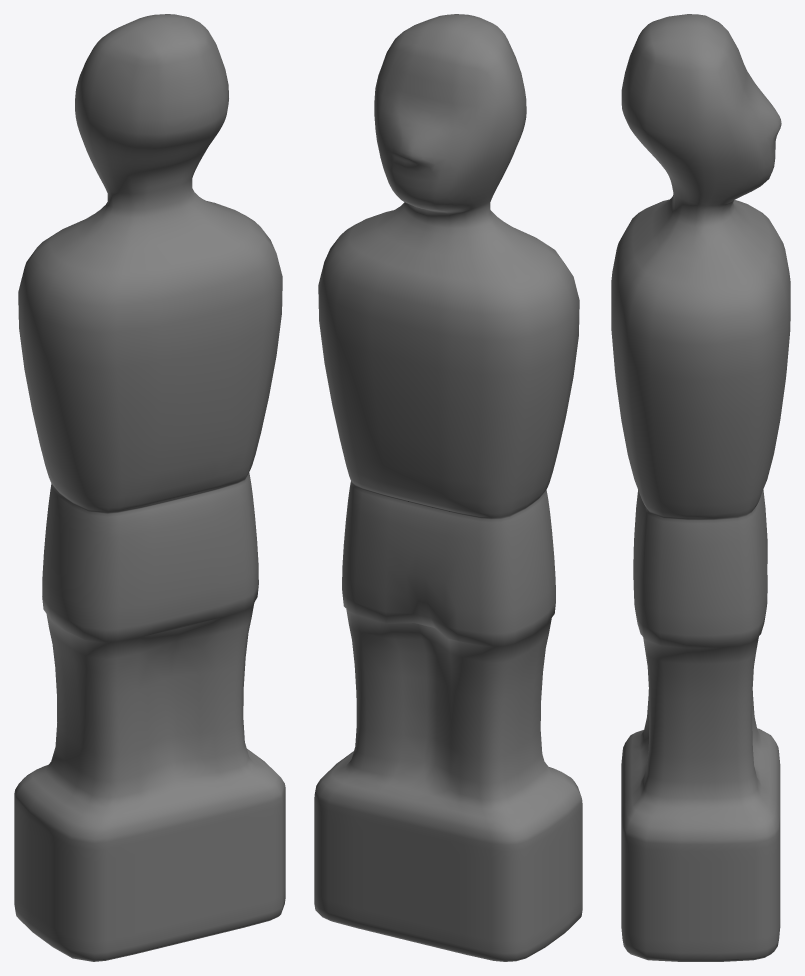
The model's file is Joueur.dae.
3 renders of one model, left to right at view 1: azimuth 30°, elevation 25°; view 2: azimuth 150°, elevation 25°; view 3: azimuth 270°, elevation 25°, orthographic.
Visible parts, largest first — view 1: JoueurEquipe1; view 2: JoueurEquipe1; view 3: JoueurEquipe1.
Part boxes in pixels (bbox=[...]): JoueurEquipe1: bbox=[14, 14, 285, 961]; JoueurEquipe1: bbox=[314, 14, 582, 961]; JoueurEquipe1: bbox=[611, 14, 790, 961].
Bounding box in the file's own units: 3.44 × 2.29 × 12.57.
